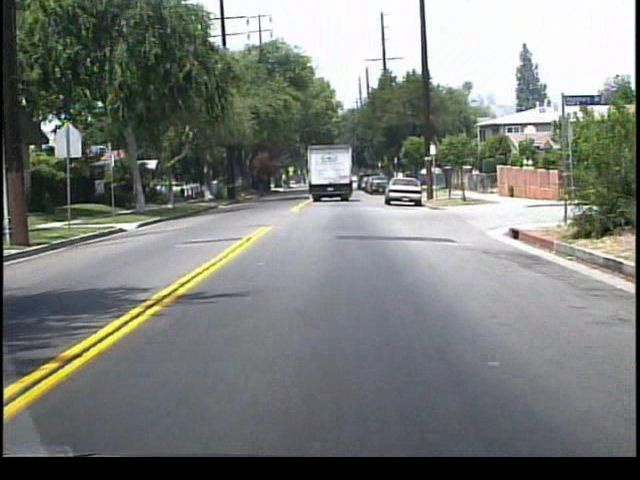person: (470, 166, 481, 193)
